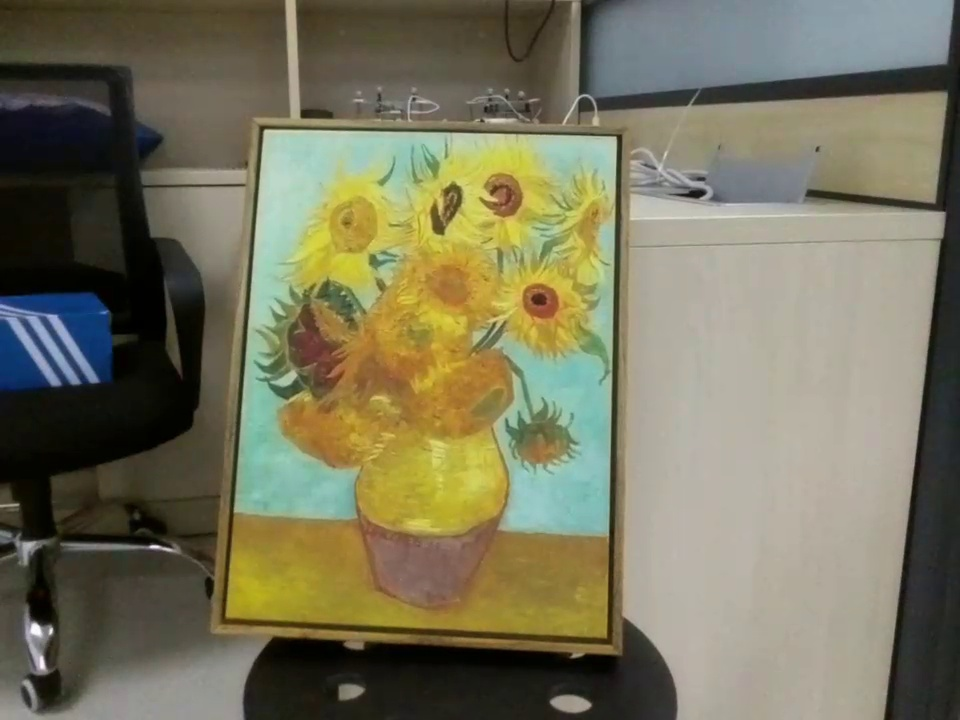painting: (217, 112, 631, 660)
